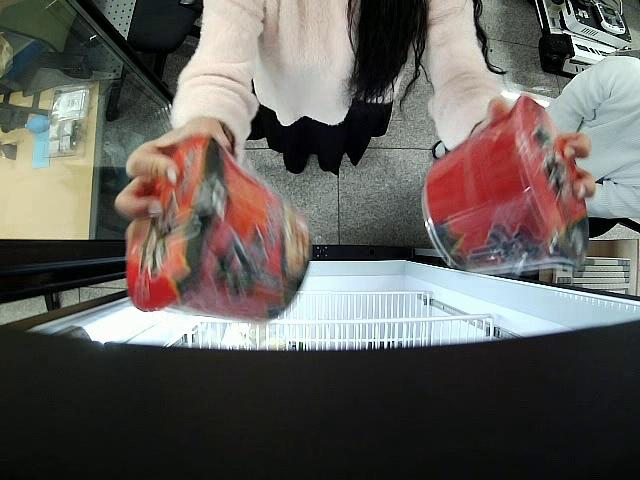00_hand: (115, 117, 231, 263), (470, 95, 597, 202)
01_shinRamen_L: (125, 135, 313, 325), (422, 93, 592, 275)
